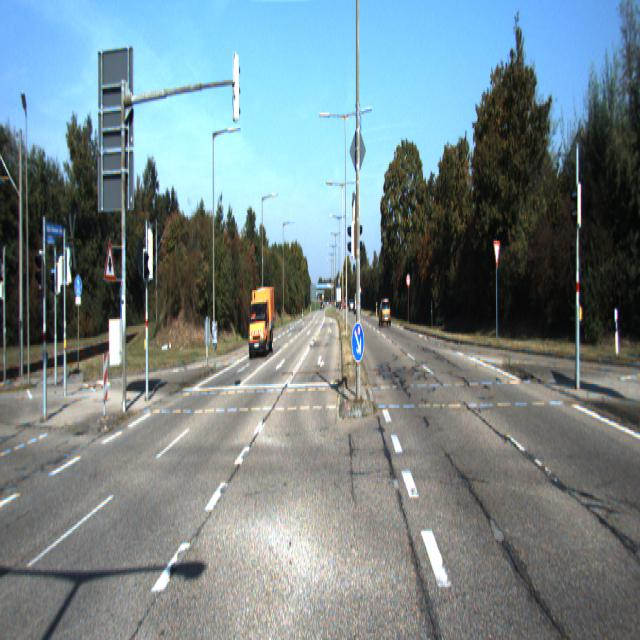Car: (245, 283, 275, 360), (381, 298, 392, 327)
